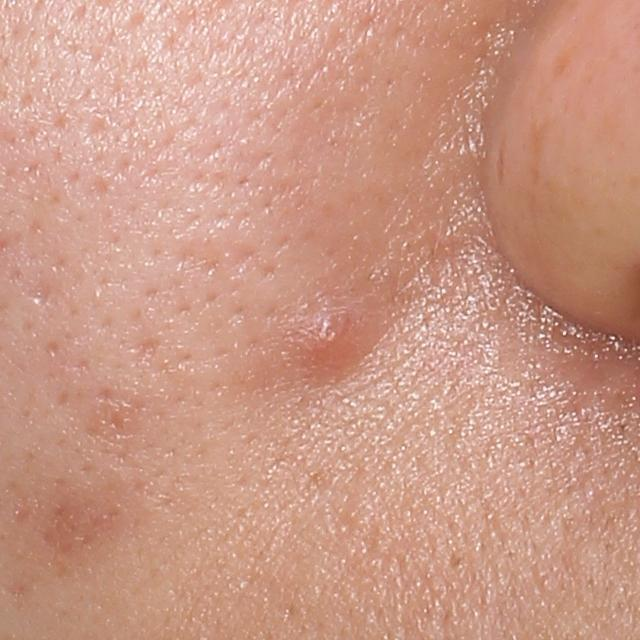atrophic_scar: (31, 281, 50, 304)
papule: (298, 305, 355, 365)
